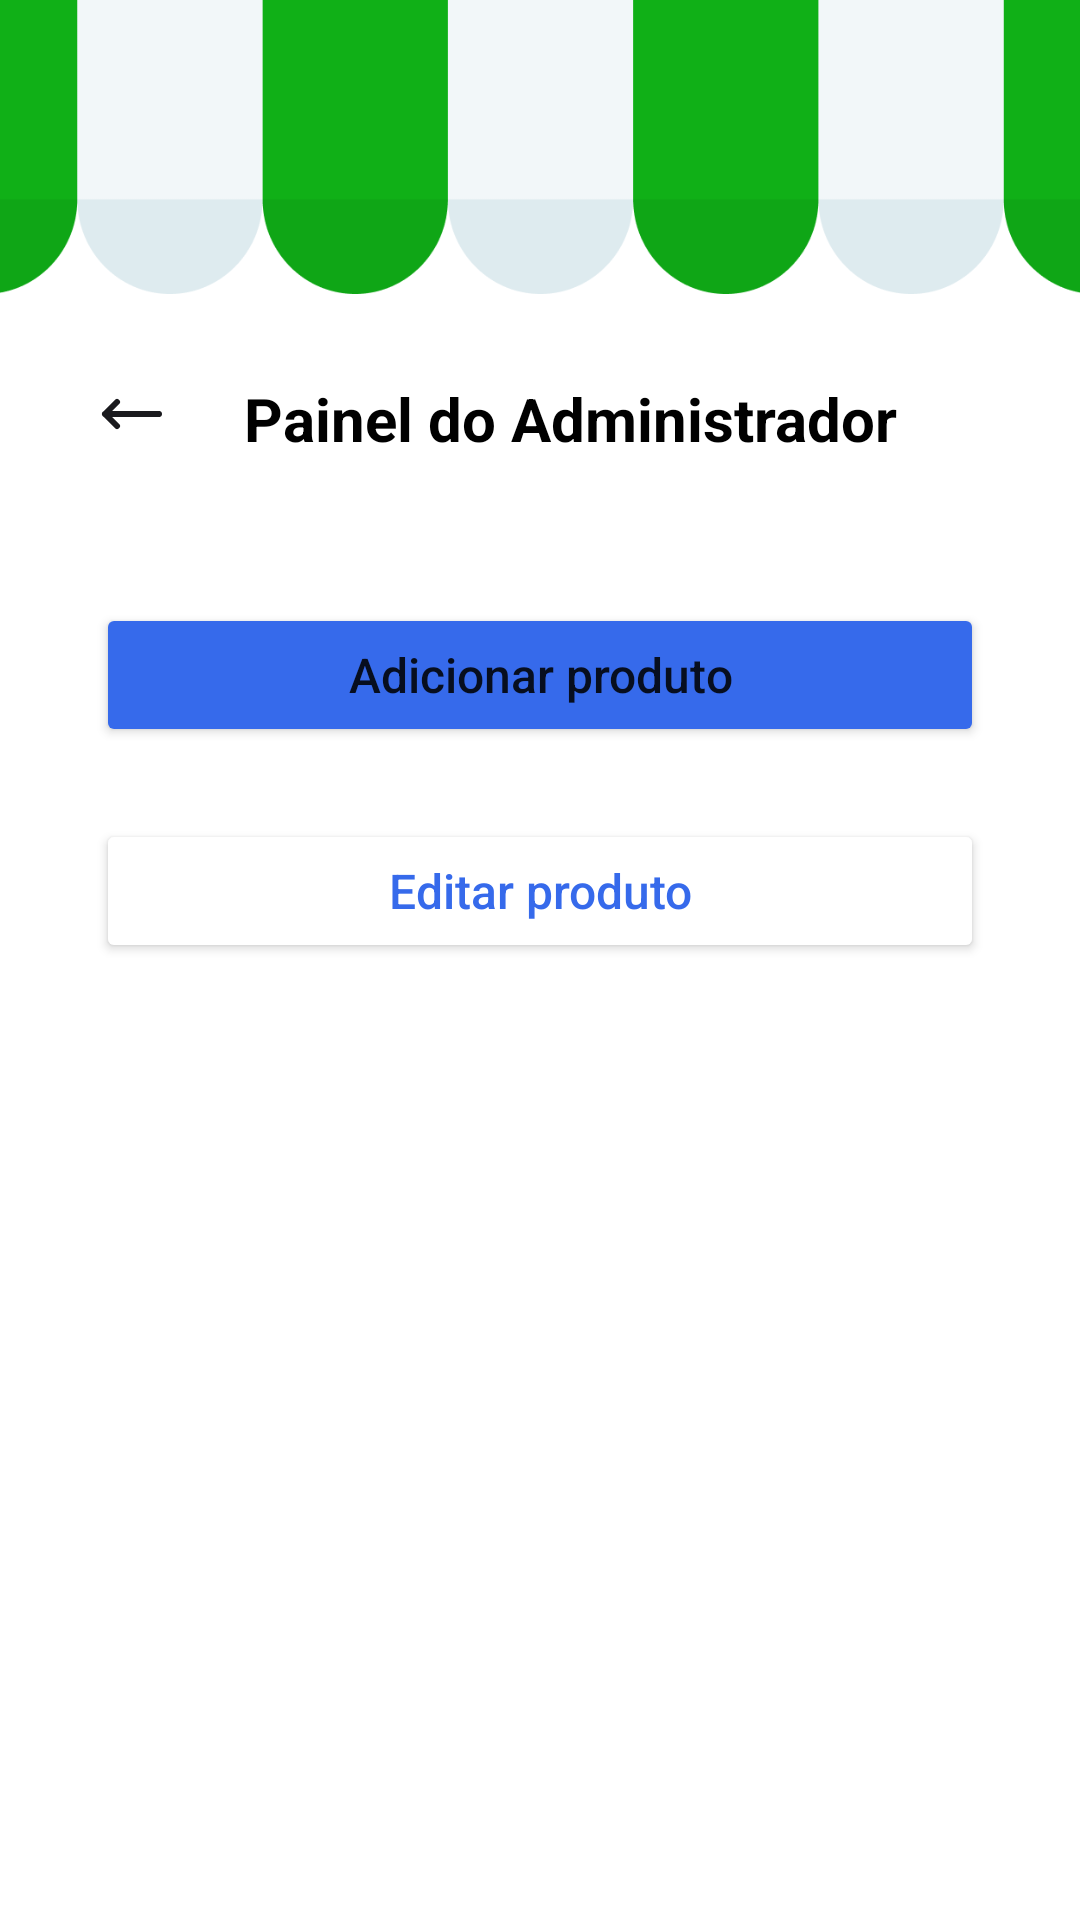

Icons on this 1080px×1920px Android screen, each with the point to tap as (x,y):
backarrow: (132,414)
